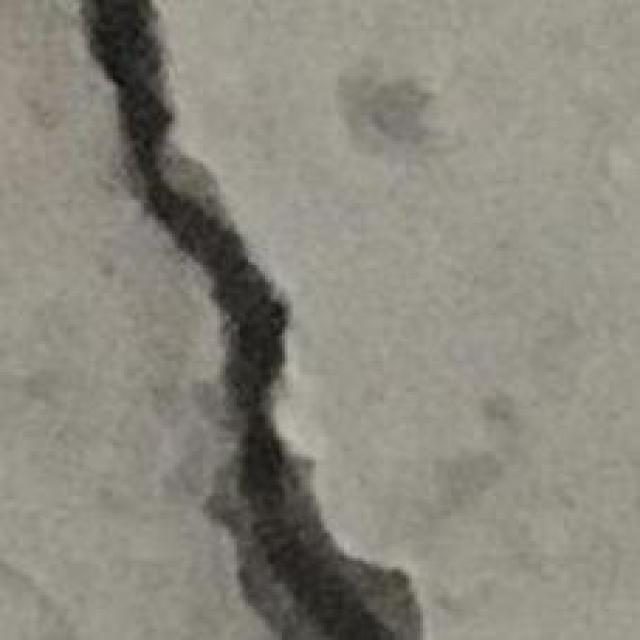Crack: (79, 0, 423, 637)
